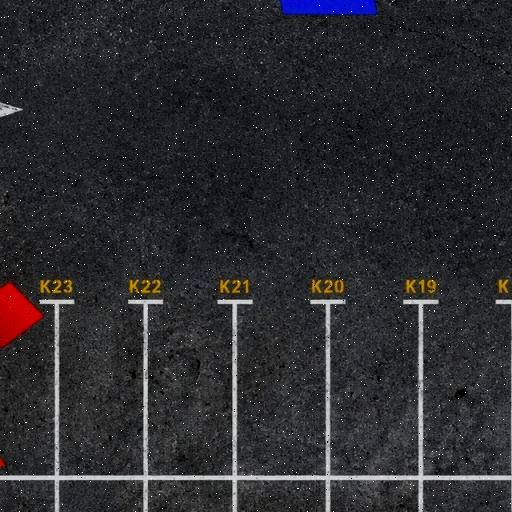RED_SQUARE: (0, 281, 45, 349)
